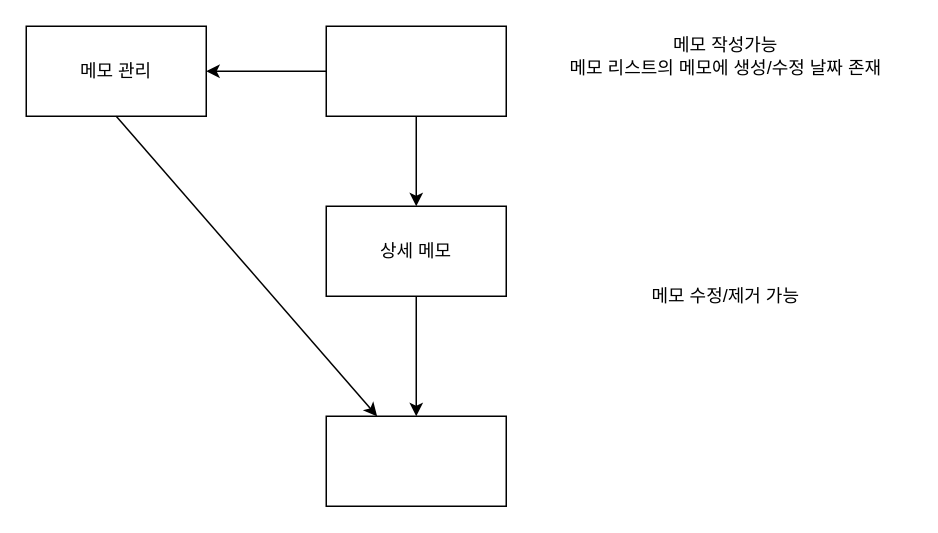
This 938x533 diagram has some shape labels left out. Each missing label, with the centre of its shape:
메모 수정: pixel 415 460
메인 페이지: pixel 415 70
